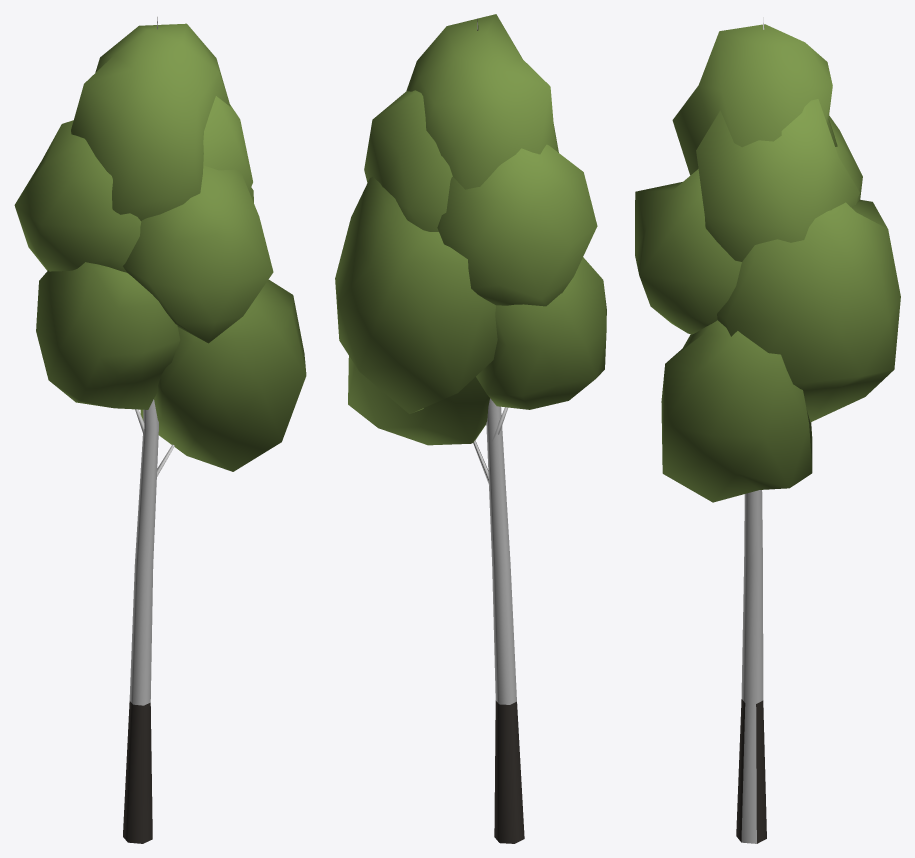
Rendered from tree_birch.glb.
3 renders of one model, left to right at view 1: azimuth 30°, elevation 25°; view 2: azimuth 150°, elevation 25°; view 3: azimuth 270°, elevation 25°, orthographic. The views are drawn at different scales.
Parts seen in each view (by area): view 1: tree_birch; view 2: tree_birch; view 3: tree_birch.
Part boxes in pixels (x1,y1,x2,y2): tree_birch: (14, 17, 306, 843); tree_birch: (335, 14, 606, 843); tree_birch: (635, 17, 900, 843).
Bounding box in the file's own units: 4.4 × 14.01 × 4.03.
